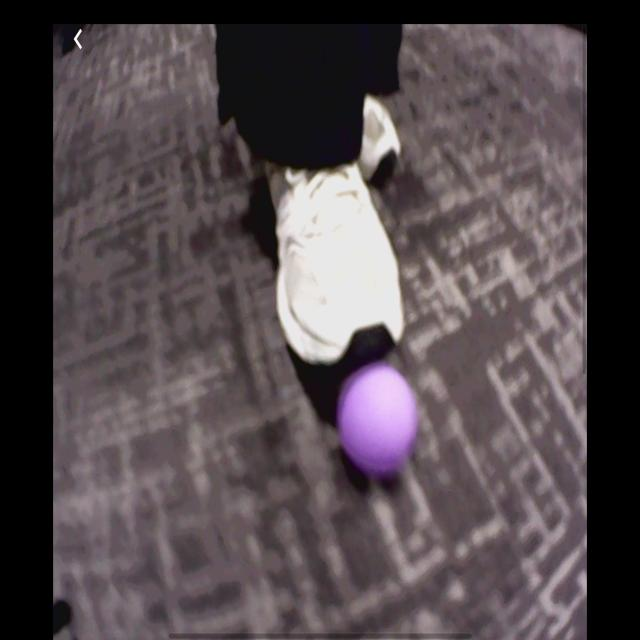ball: (339, 367, 420, 474)
